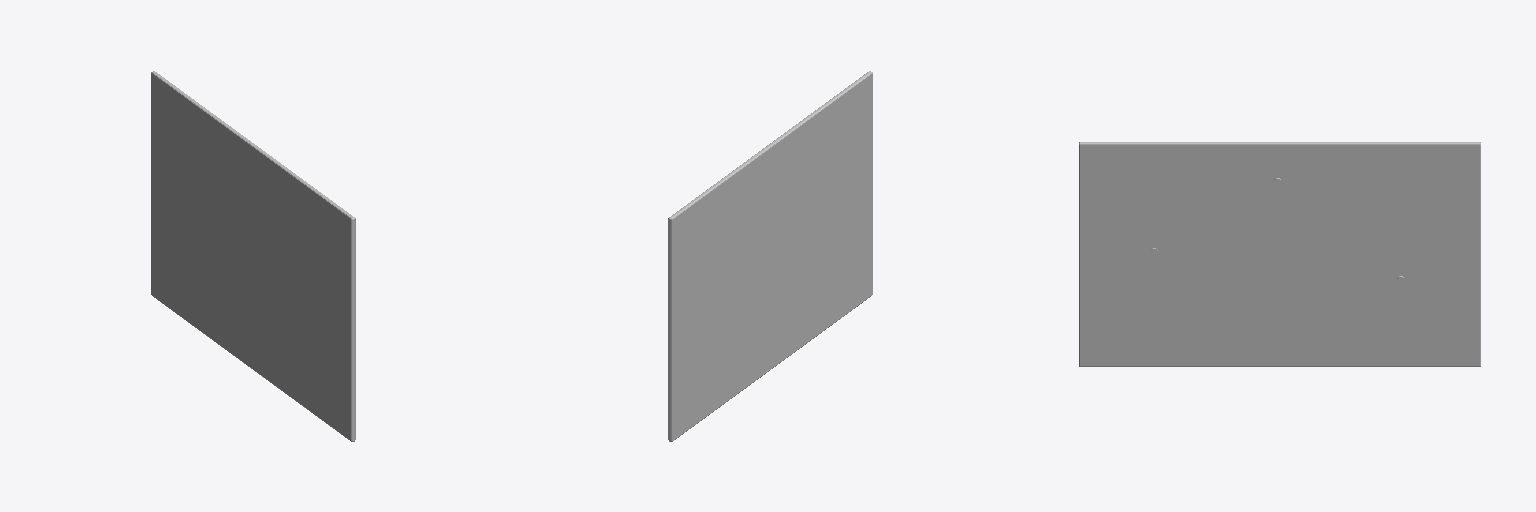
Rendered from NoteBoard.obj.
3 renders of one model, left to right at view 1: azimuth 30°, elevation 25°; view 2: azimuth 150°, elevation 25°; view 3: azimuth 270°, elevation 25°, orthographic.
Visible parts, largest first — view 1: Board_Cube.001; view 2: Board_Cube.001; view 3: Board_Cube.001.
Part boxes in pixels (x1,y1,x2,y2): Board_Cube.001: (151, 71, 355, 441); Board_Cube.001: (668, 71, 872, 441); Board_Cube.001: (1079, 142, 1480, 366).
Size of the model in its own units: 0.0108 by 0.2361 by 0.3838.